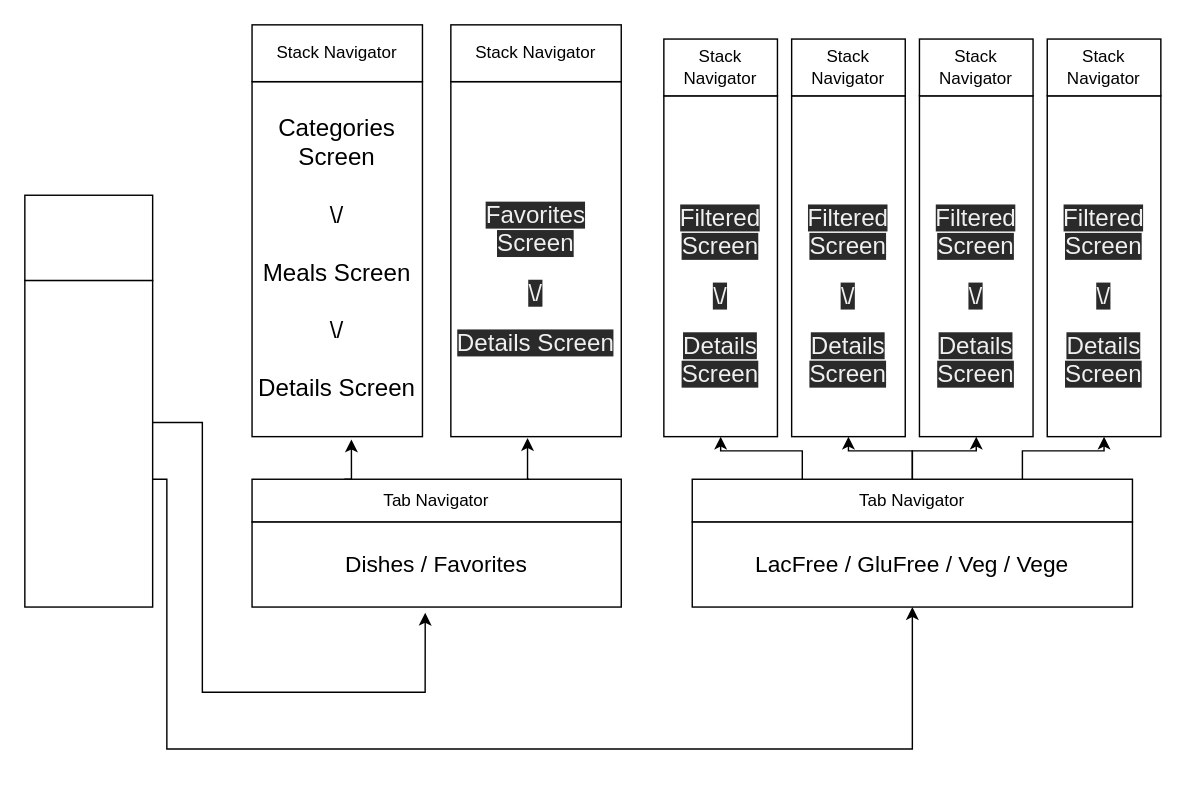
The diagram is 1186 pixels wide and 785 high, and some of its shapes have lost their labels. Here are the shapes that lost their labels. From the top down, the centre of each, then its label:
At (88,237): "Side Drawer".
At (88,443): "Kitchen Filters".
